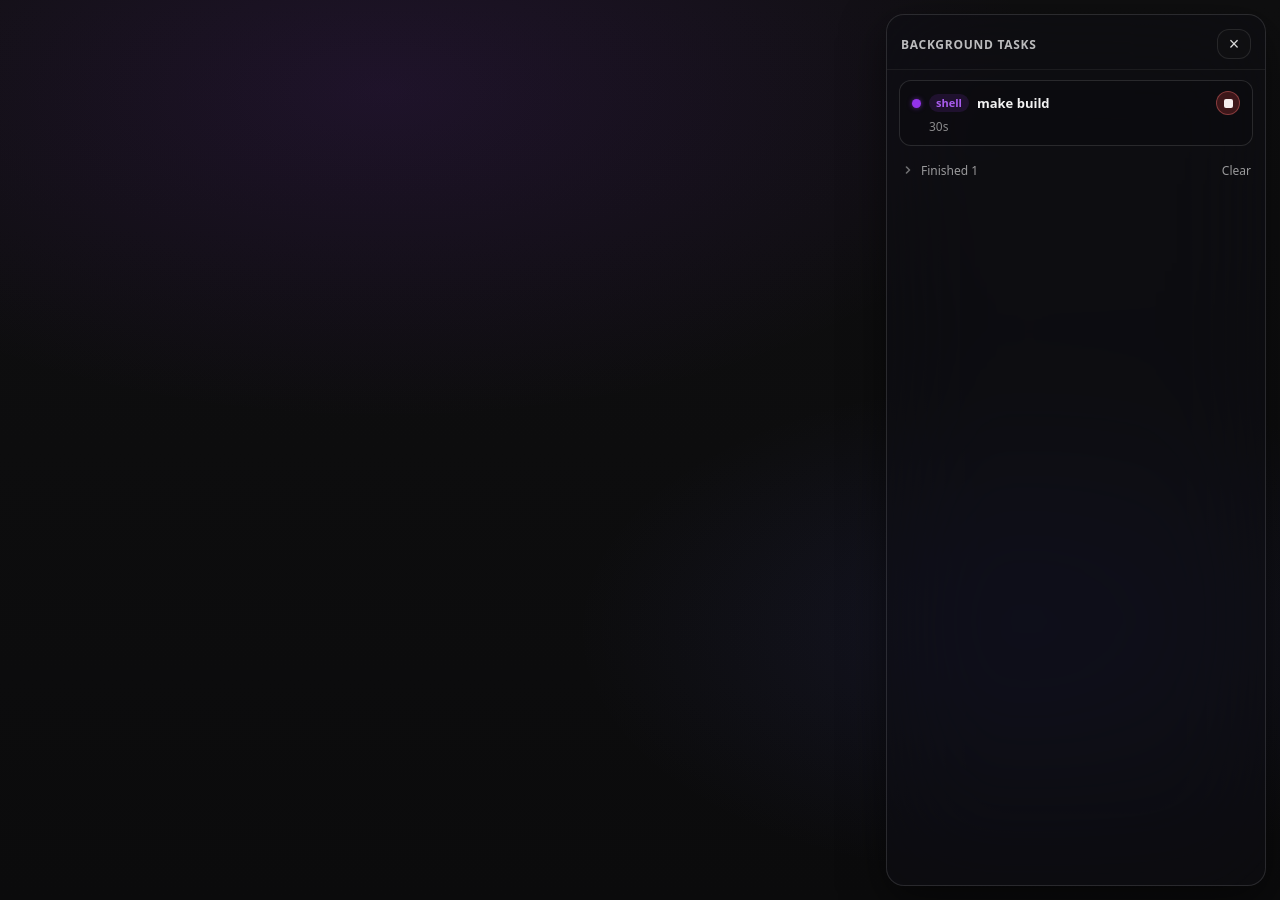
an expanded command card shows the command with a copy control, the output and how it ended
Step 1. Click the button with test id "bgtask-finished-toggle" → {"x": 940, "y": 170}, box 901,156 -> 978,184
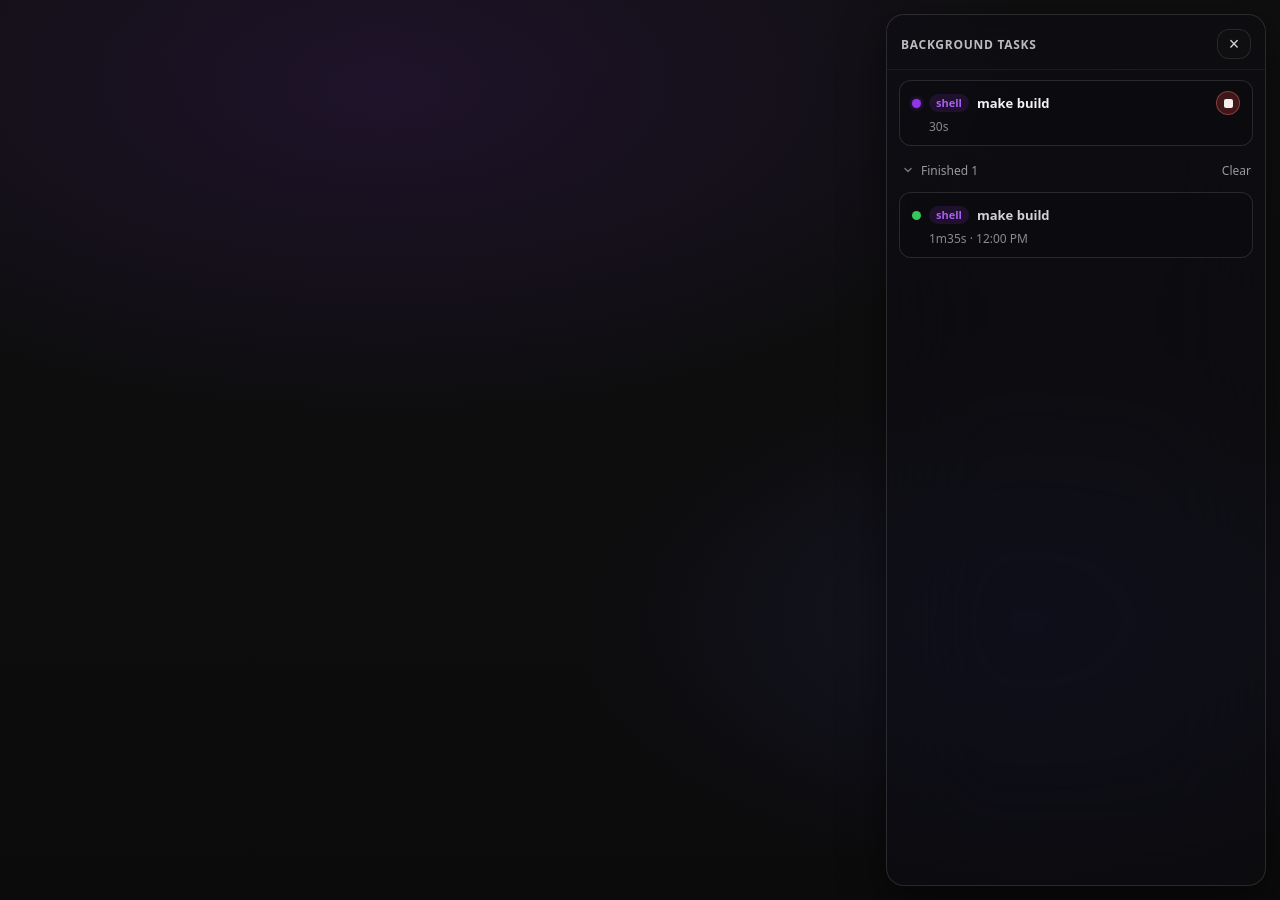
Step 2. Click the button with test id "bgtask-open-bg_2" → {"x": 949, "y": 215}, box 912,206 -> 1240,224
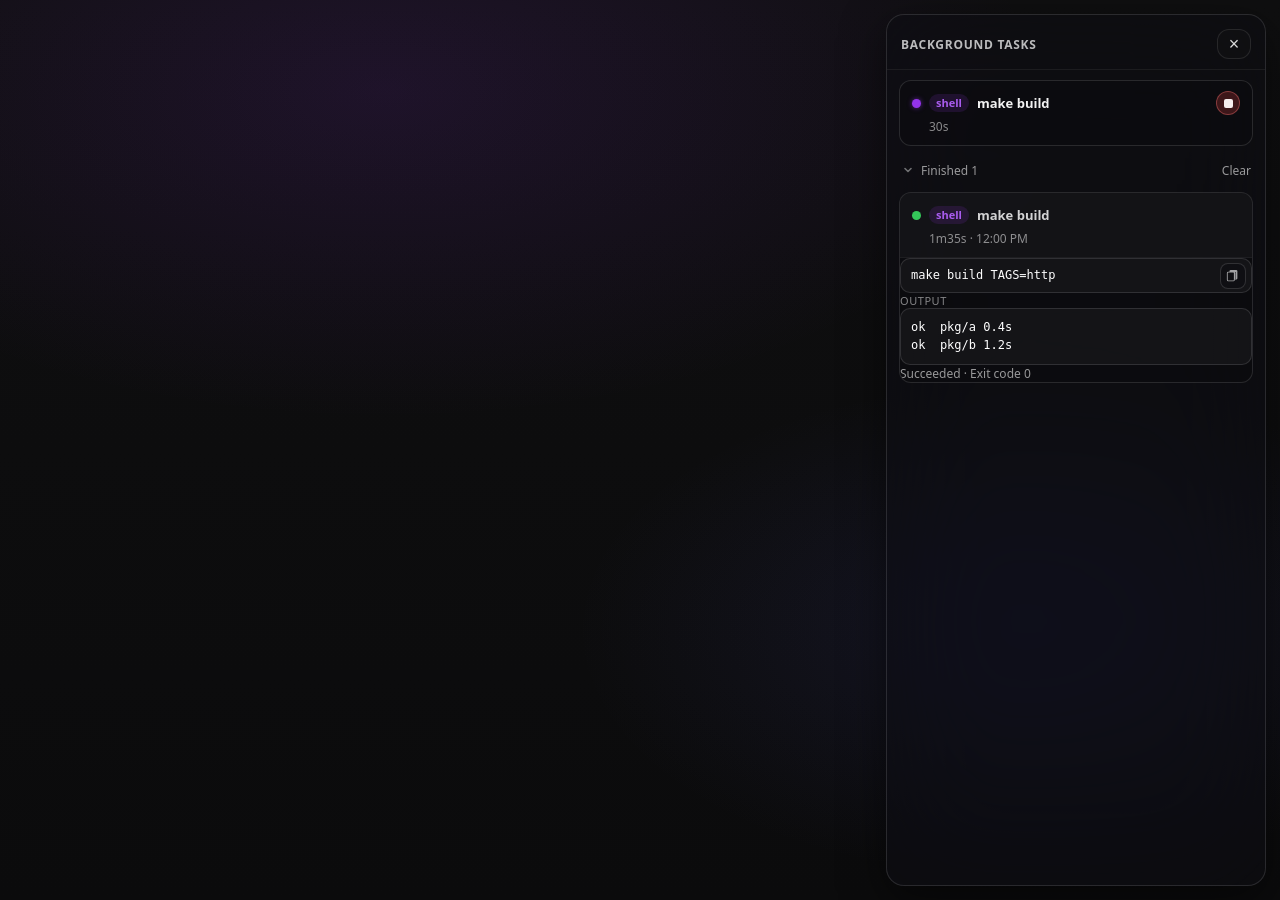
expect the text with test id "bgtask-command-bg_2" reads "make build TAGS=http": met, box 911,268 -> 1056,282
expect the button with test id "bgtask-copy-command-bg_2" is enabled: met, box 1220,263 -> 1246,289
expect the text with test id "bgtask-output-bg_2" shows "ok pkg/b 1.2s": met, box 911,320 -> 1012,352
